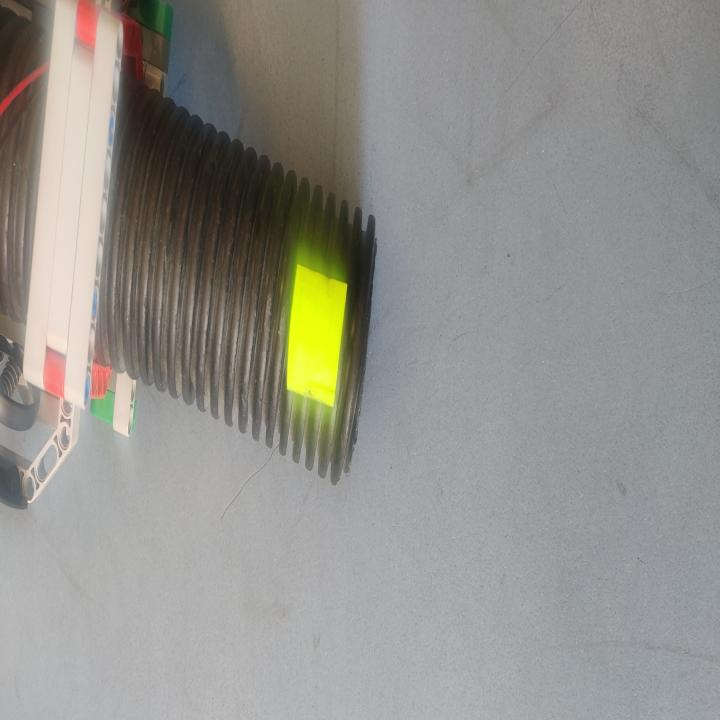robot-front: (128, 109, 371, 472)
